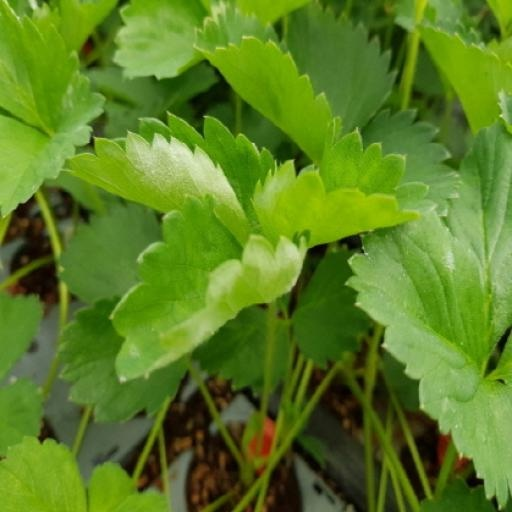Powdery Mildew Leaf: (201, 192, 403, 385), (16, 207, 169, 410), (233, 109, 457, 238)
